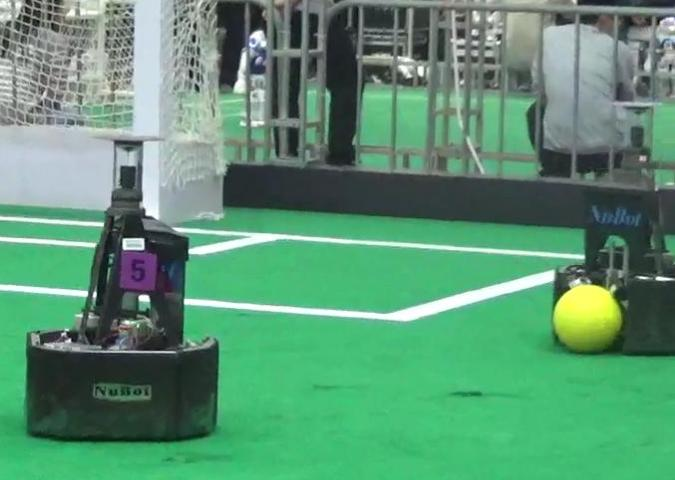robot: (21, 120, 226, 443), (544, 86, 674, 364)
